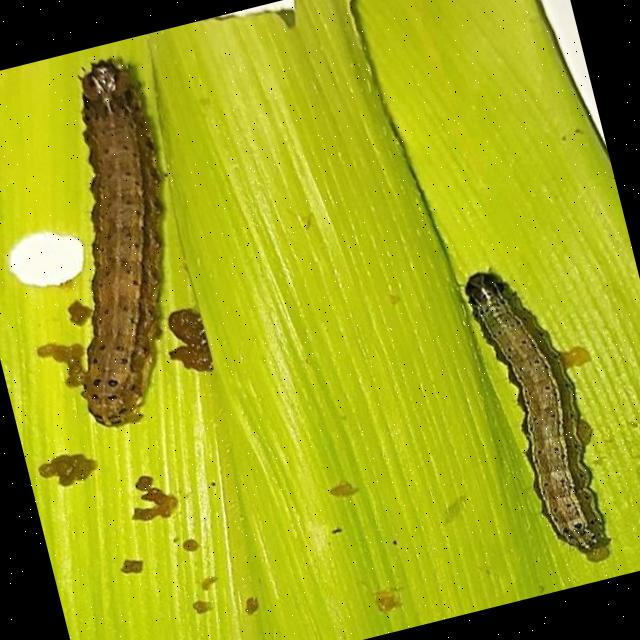worm: (4, 51, 227, 437), (461, 255, 627, 579)
